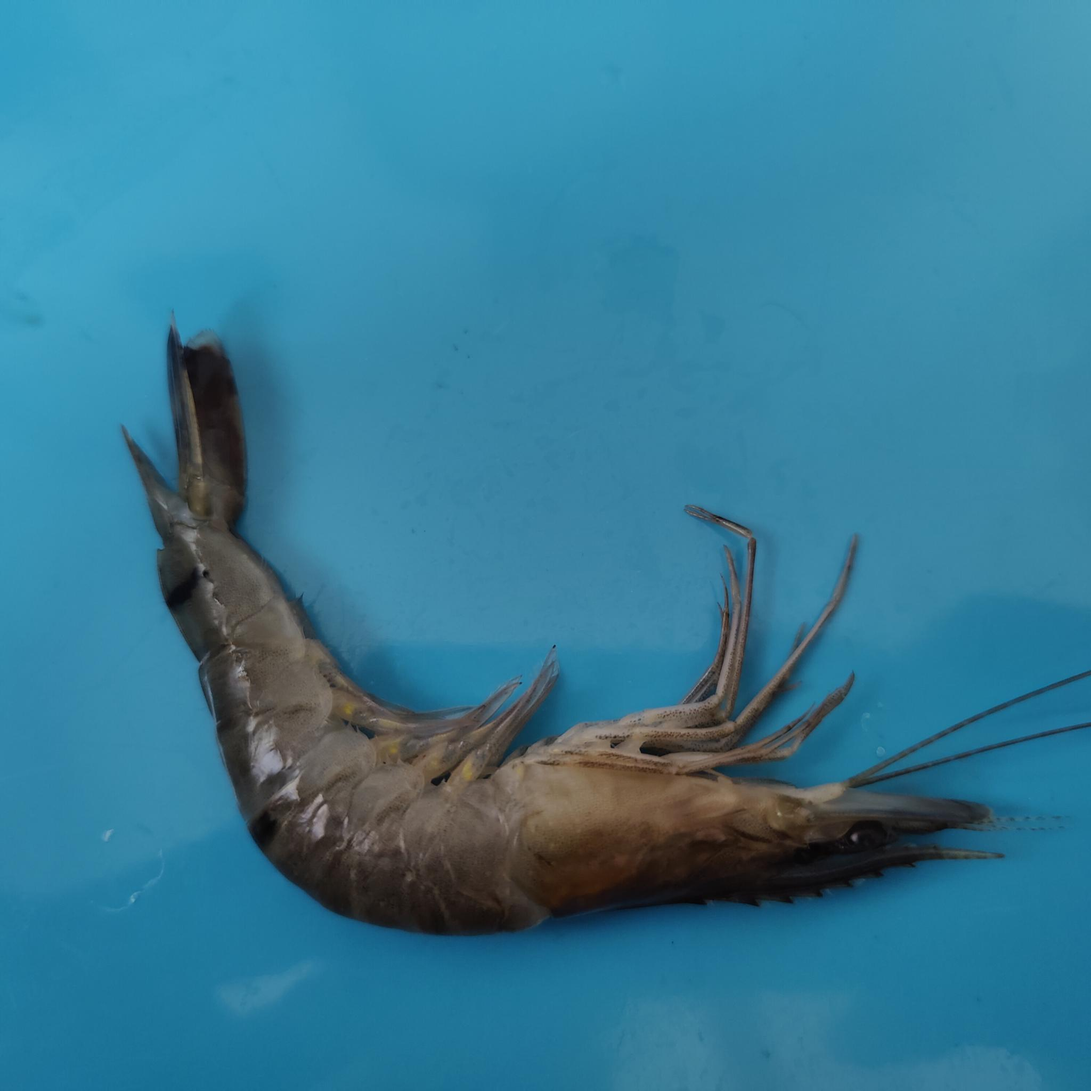whitespot: (446, 798, 610, 902)
